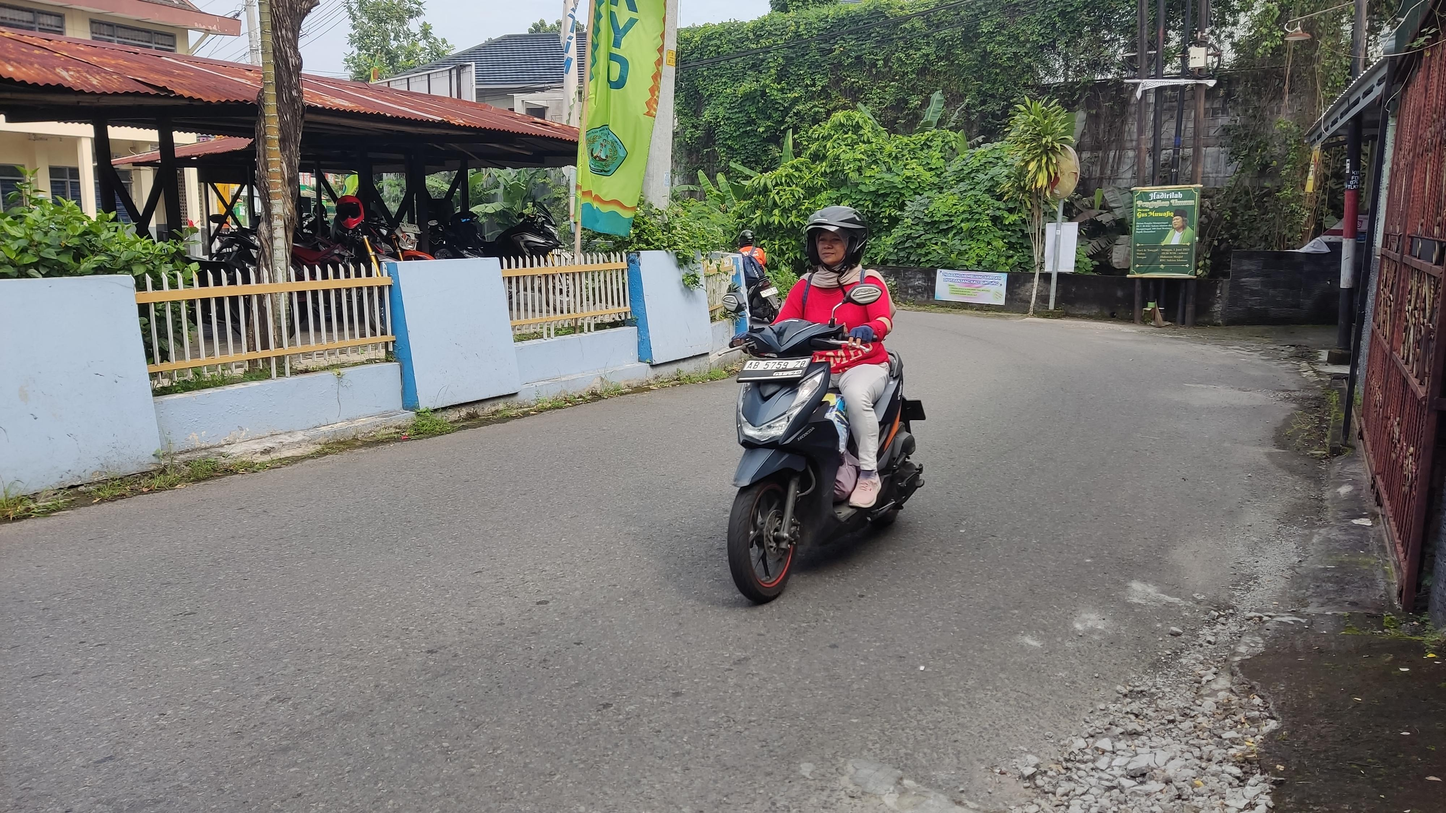helm: (801, 205, 870, 272)
riding: (721, 204, 929, 606)
